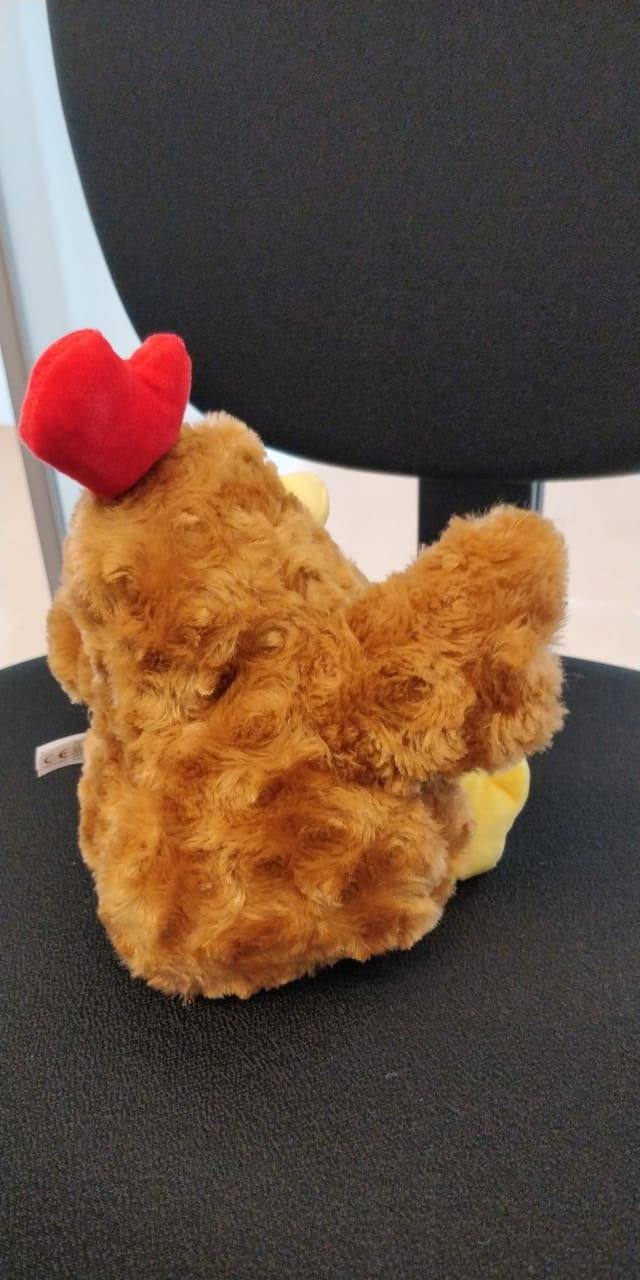fakeChicken: (1, 325, 571, 1003)
